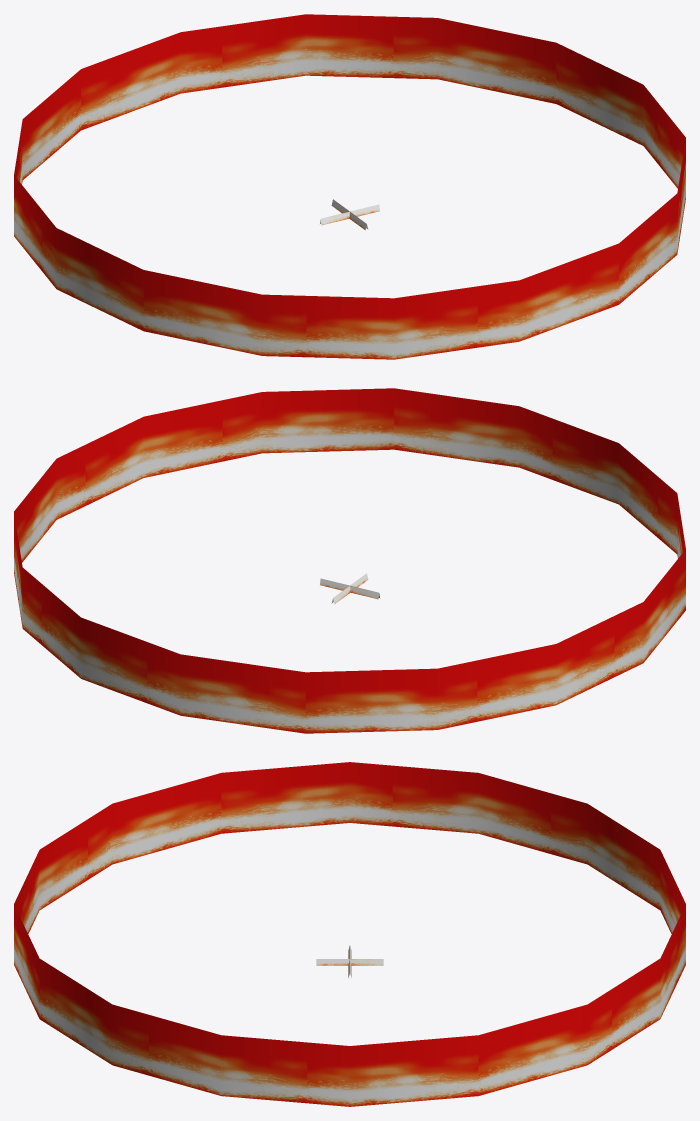
Rendered from godclient_cylinder_20m.fbx.
The picture shows the model from 3 angles, top to bottom: view 1: azimuth 30°, elevation 25°; view 2: azimuth 150°, elevation 25°; view 3: azimuth 270°, elevation 25°; orthographic projection.
Parts seen in each view (by area): view 1: mesh_node; view 2: mesh_node; view 3: mesh_node.
Boxes of the visible parts, <box> form: mesh_node: <box>14,14,685,359</box>; mesh_node: <box>14,388,685,733</box>; mesh_node: <box>14,762,685,1106</box>.
Bounding box in the file's own units: 20 × 2 × 20.
Materials: 1 (1 with a texture image).
